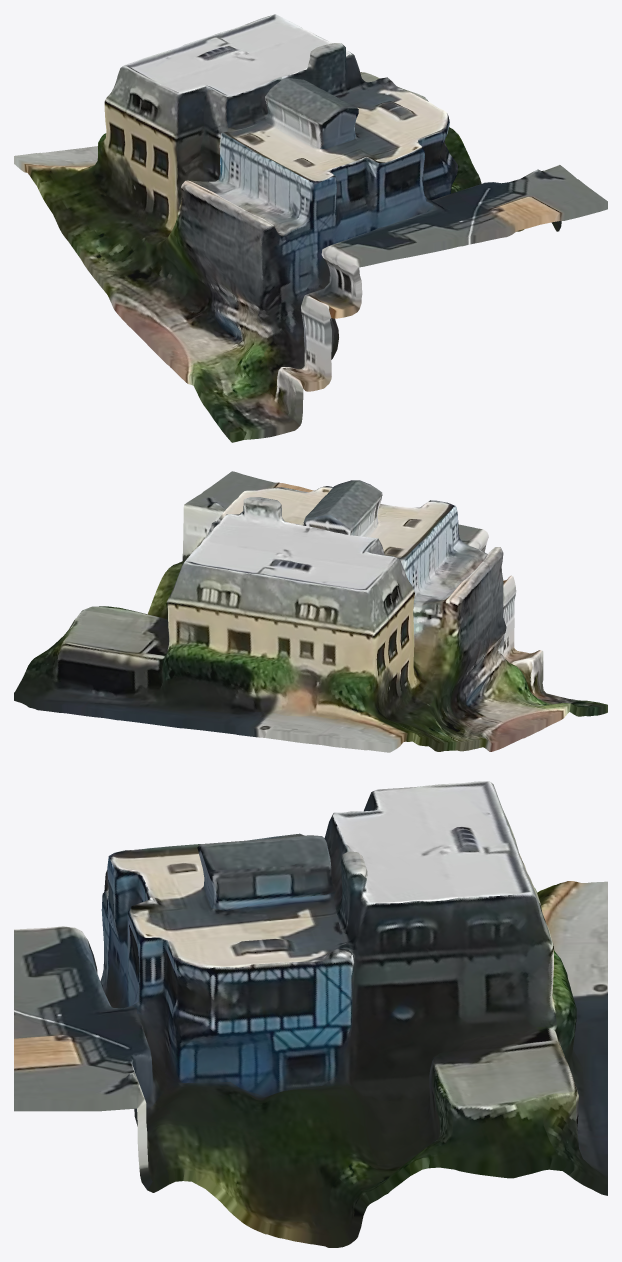
The model's file is z20-167717-405195-h0-yup-uvflip-v3-world.glb.
3 views of the same model, one above another, from view 1: azimuth 30°, elevation 25°; view 2: azimuth 150°, elevation 25°; view 3: azimuth 270°, elevation 25° (orthographic). The views are drawn at different scales.
Bounding box in the file's own units: 30.16 × 19.52 × 30.32.
1 material, 1 textured.
